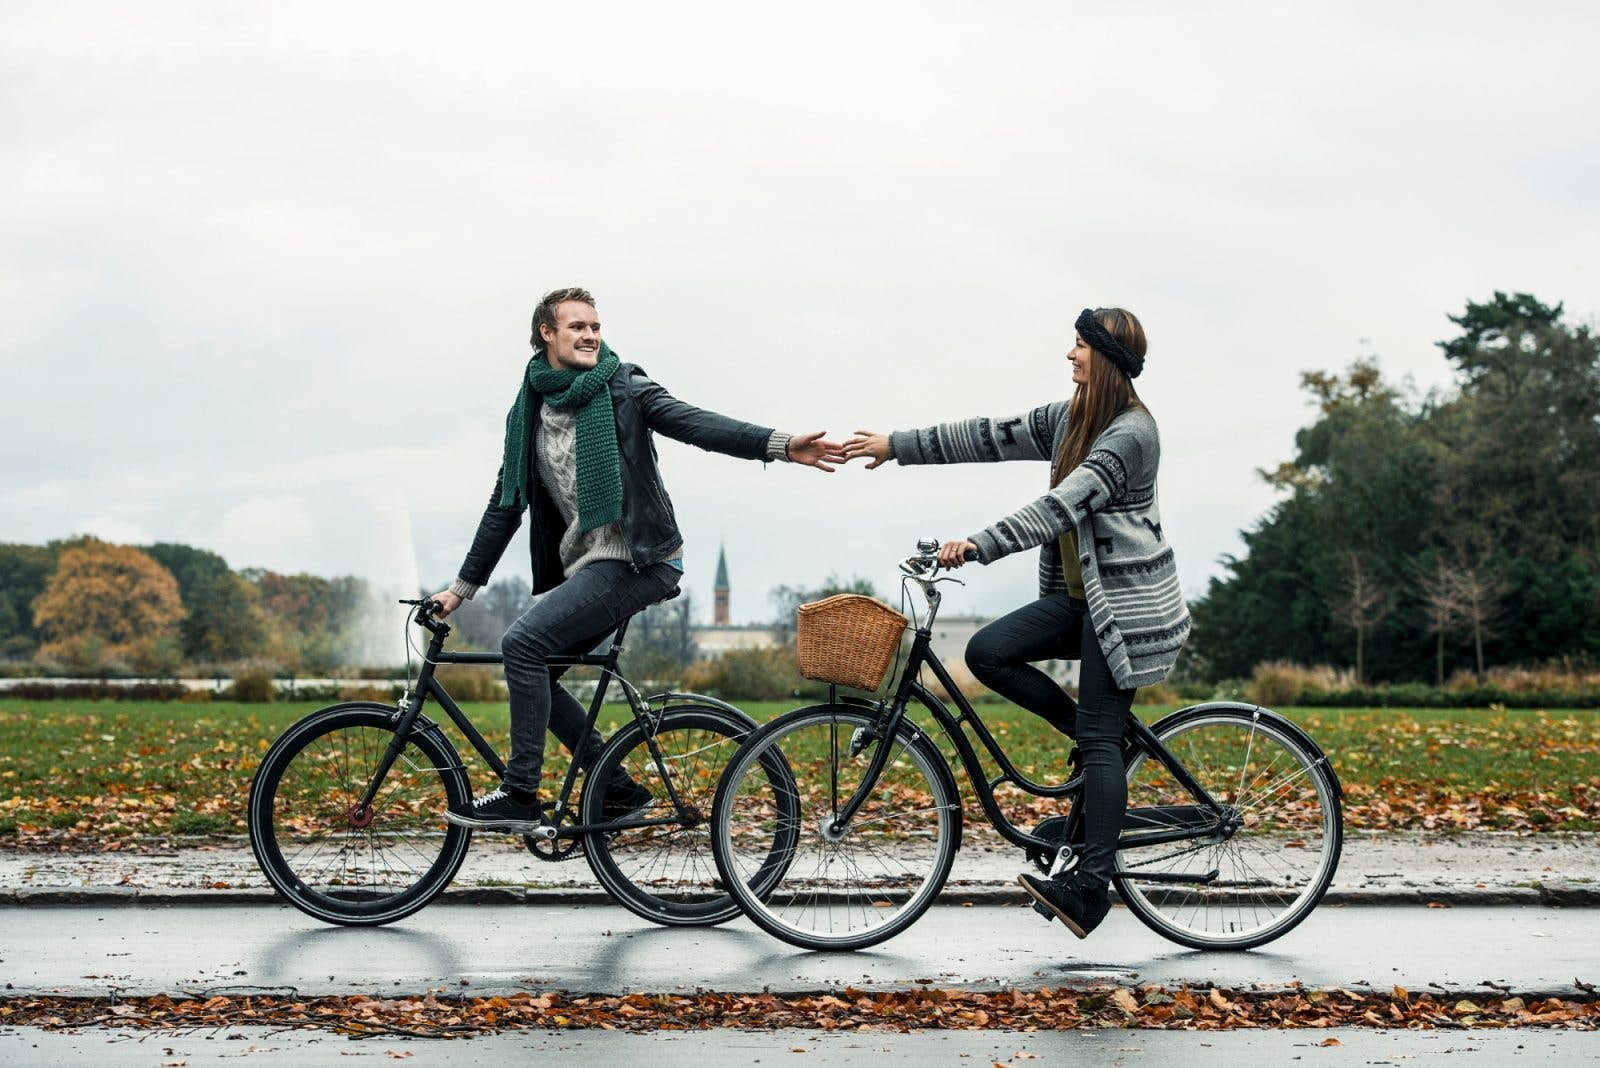commuter: (711, 309, 1347, 951), (248, 285, 799, 927)
